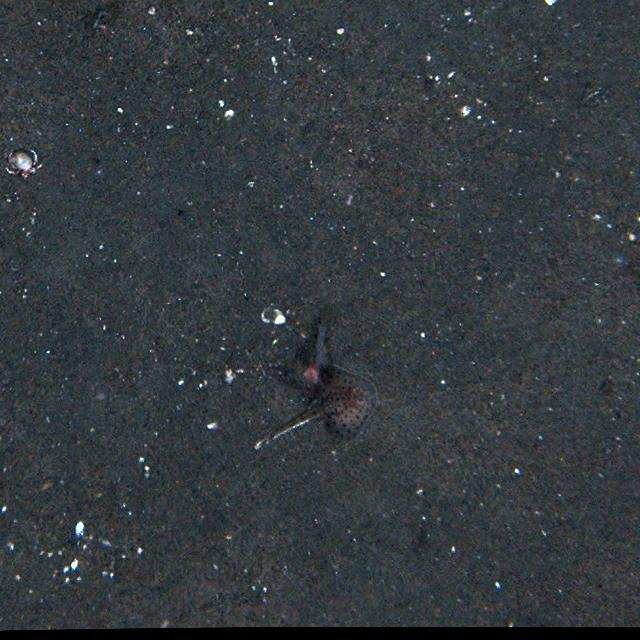skate: (279, 359, 384, 444)
